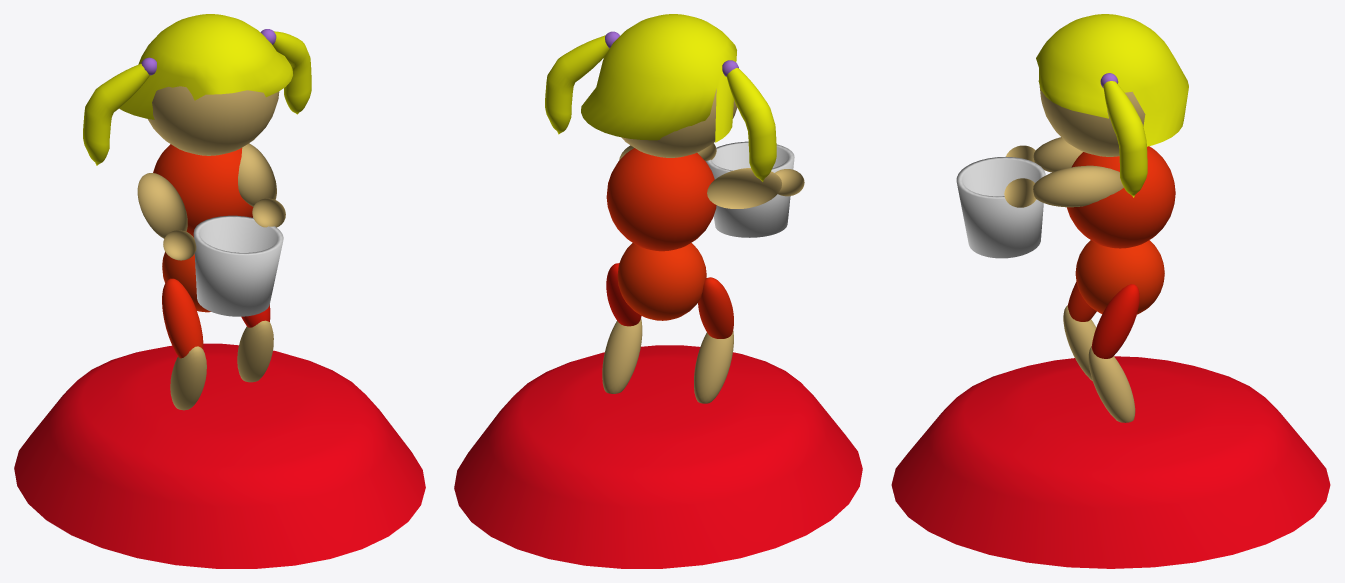
Rendered from er_Red_Girl-mod.fbx.
3 views of the same model, side by side, from view 1: azimuth 30°, elevation 25°; view 2: azimuth 150°, elevation 25°; view 3: azimuth 270°, elevation 25° (orthographic).
Parts seen in each view (by area): view 1: Circle, Circle_003, Circle_001, Sphere_009; view 2: Circle, Circle_003, Sphere_009, Circle_001; view 3: Circle, Circle_003, Sphere_009, Circle_001.
Boxes of the visible parts, x1=… form: Circle: x1=14, y1=343, x2=425, y2=568; Circle_003: x1=83, y1=14, x2=311, y2=165; Circle_001: x1=137, y1=143, x2=285, y2=316; Sphere_009: x1=153, y1=144, x2=273, y2=410; Circle: x1=454, y1=345, x2=862, y2=568; Circle_003: x1=545, y1=14, x2=776, y2=181; Sphere_009: x1=602, y1=148, x2=733, y2=403; Circle_001: x1=619, y1=141, x2=804, y2=237; Circle: x1=891, y1=356, x2=1330, y2=568; Circle_003: x1=1036, y1=14, x2=1188, y2=197; Sphere_009: x1=1063, y1=146, x2=1175, y2=422; Circle_001: x1=956, y1=137, x2=1123, y2=258.
Size of the model in its own units: 1.22 by 1.55 by 1.35.
